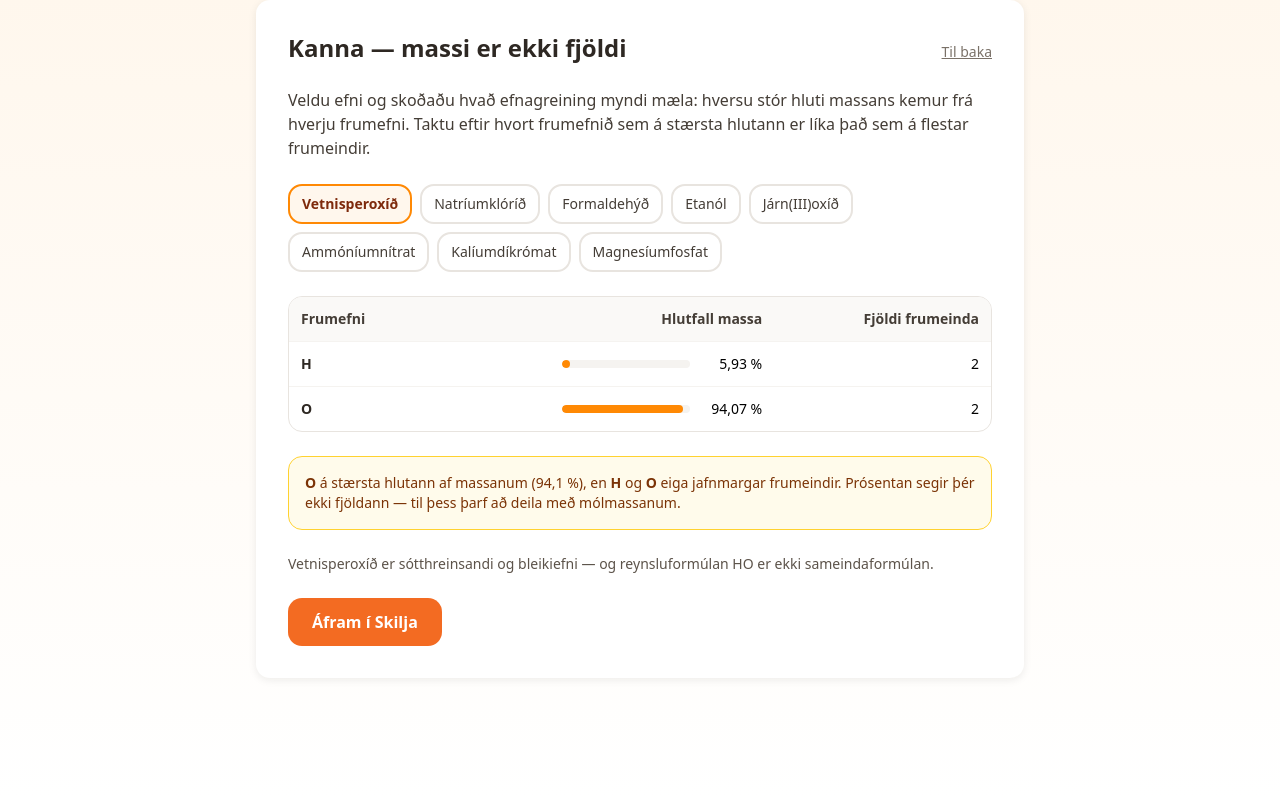
it: Kanna › nothing moves when the table is already on screen, and focus goes to the sentence
The width and height of the screenshot is (1280, 800).
Click the button "Etanól".
click(706, 204)  # box left=671, top=184, right=741, bottom=224
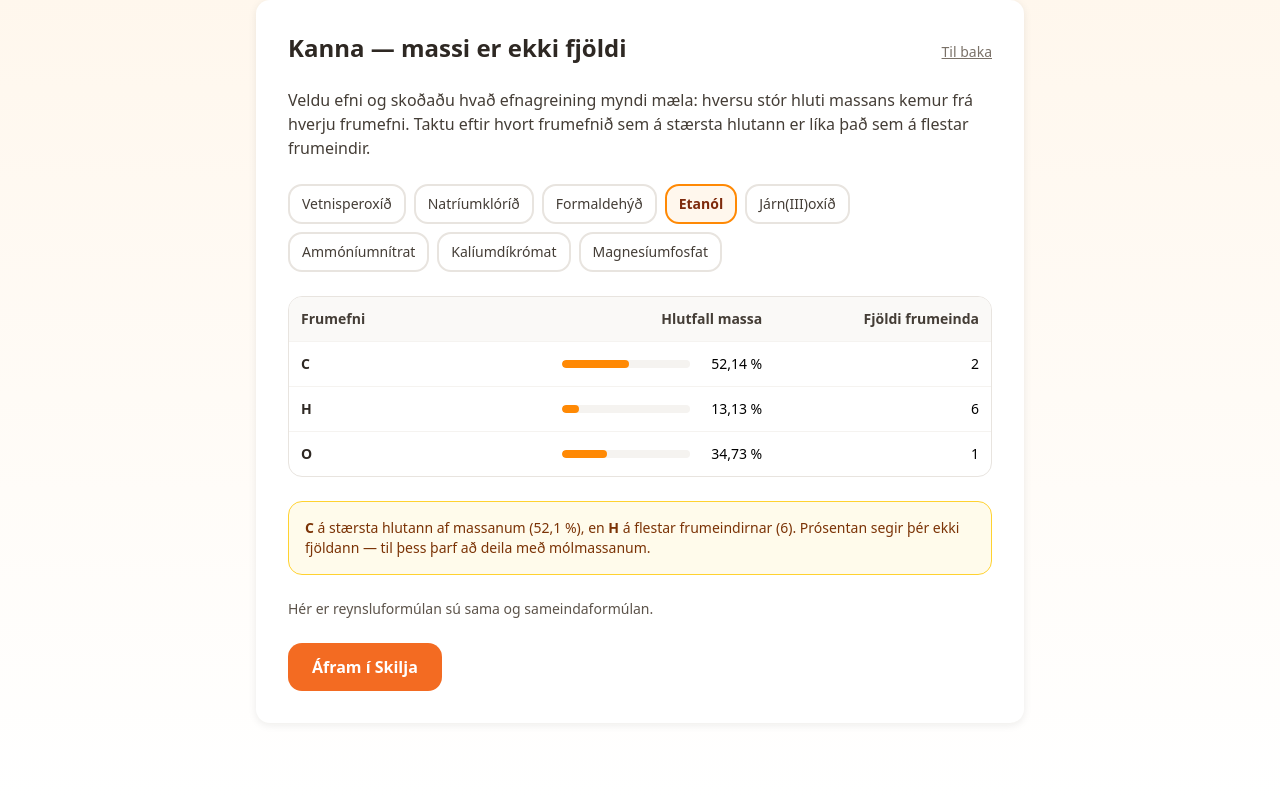
Expected: the text "hlutann af massanum" shows "á flestar frumeindirnar", left=619, top=518, right=780, bottom=537
